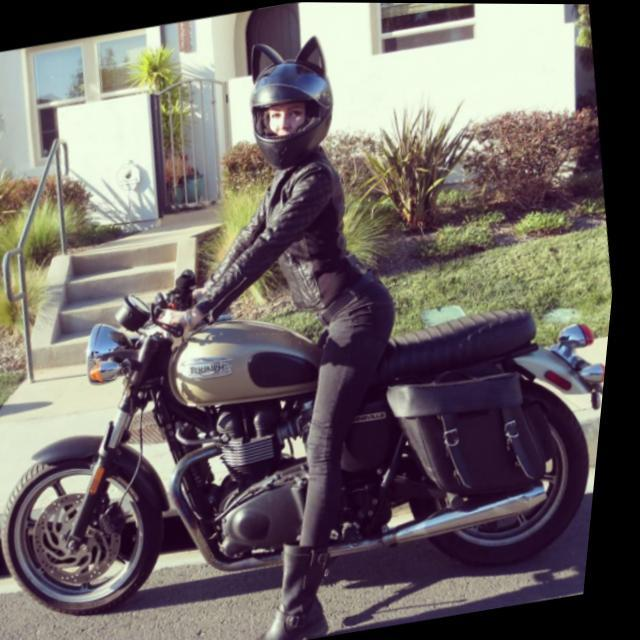Helmet: (233, 29, 340, 175)
